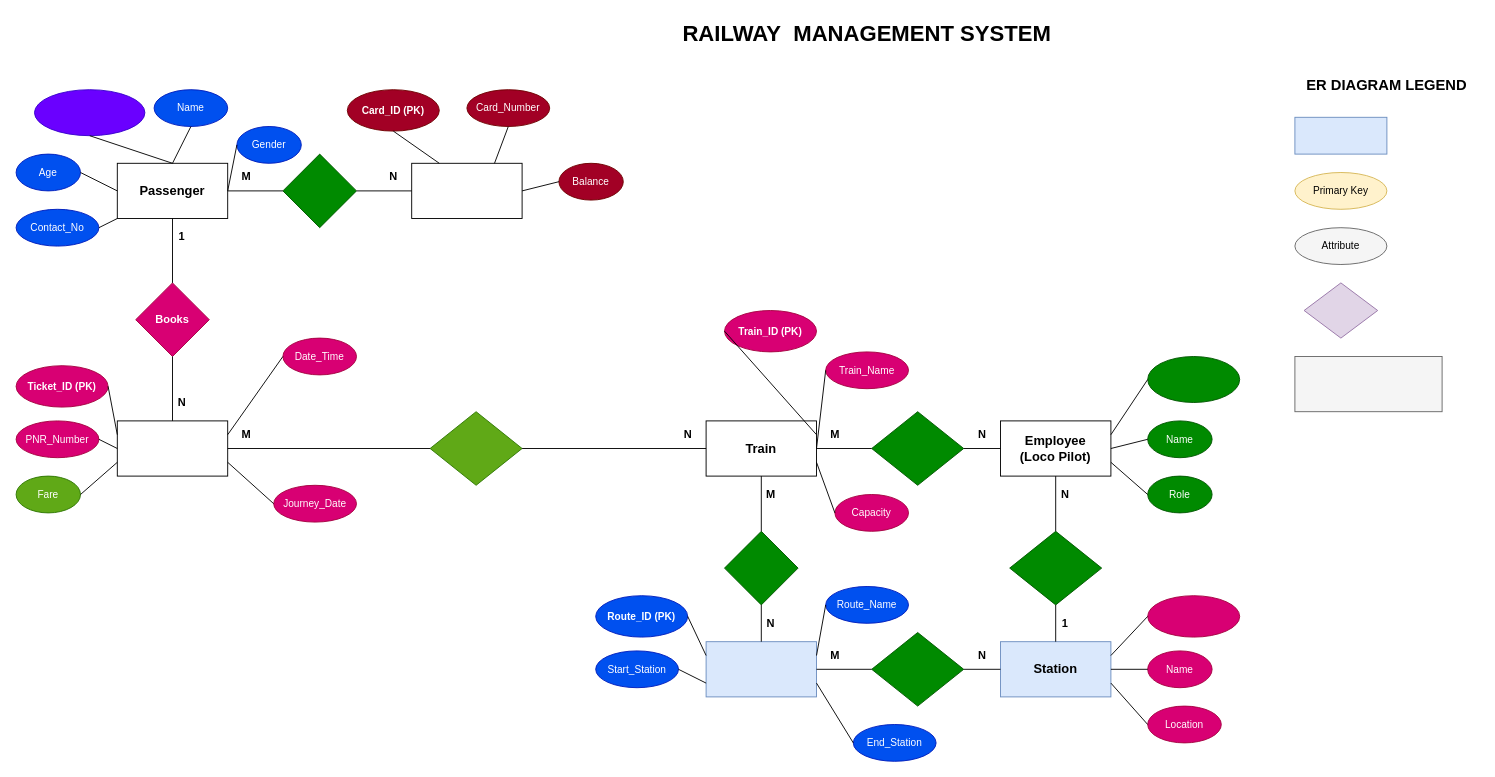
Some shapes in this 1495 by 777 pixel diagram are drawn without their labels. Each missing label, with the centre of its shape:
"Assigned_to" belongs at point (1055, 567).
"Consists_of" belongs at point (917, 669).
"Emp_ID (PK) Assigned_ID" belongs at point (1193, 379).
"Entity (Strong)" belongs at point (1340, 135).
"Follows" belongs at point (761, 567).
"Linked_to" belongs at point (475, 448).
"M:N = Many-to-Many 1:N = One-to-Many 1:1 = One-to-One" belongs at point (1368, 384).
"Operates" belongs at point (917, 448).
"Passenger_ID (PK)" belongs at point (89, 112).
"Relationship" belongs at point (1340, 310).
"Route" belongs at point (760, 669).
"SmartCard" belongs at point (466, 190).
"Station_ID (PK)" belongs at point (1193, 616).
"Ticket" belongs at point (172, 448).
"Uses" belongs at point (319, 190).
